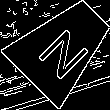N_NE: (31, 15, 95, 79)
